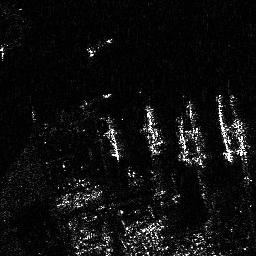ship: (86, 36, 114, 58)
